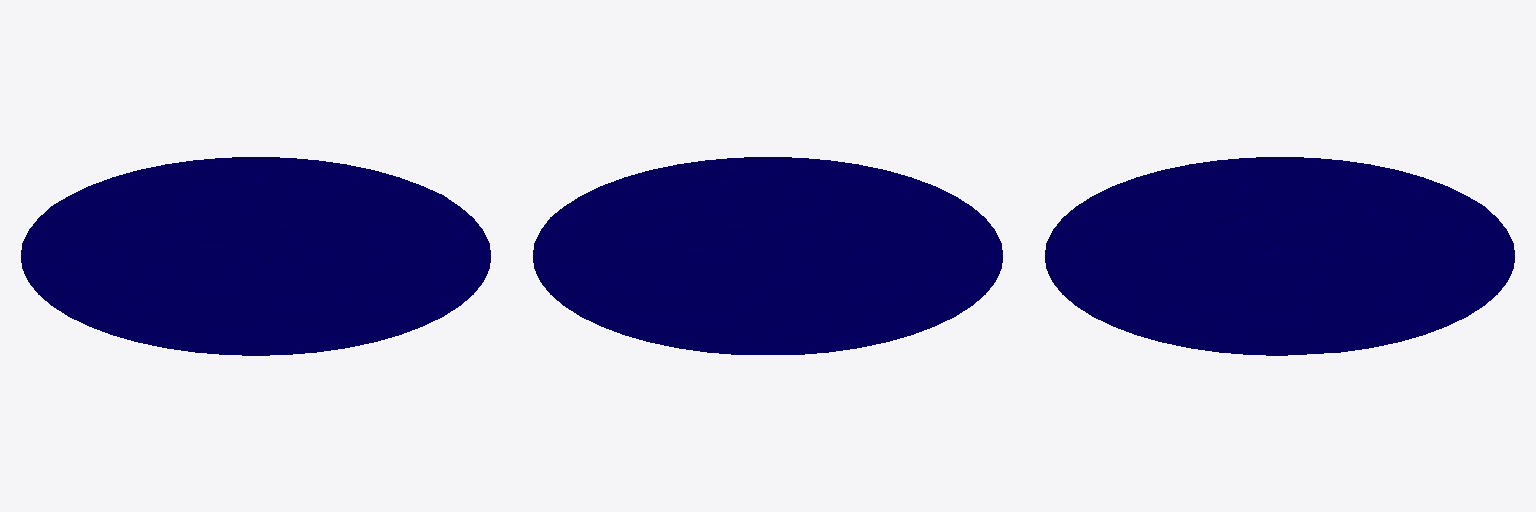
File: ocean_final_real.obj
3 renders of one model, left to right at view 1: azimuth 30°, elevation 25°; view 2: azimuth 150°, elevation 25°; view 3: azimuth 270°, elevation 25°, orthographic.
Parts seen in each view (by area): view 1: ocean; view 2: ocean; view 3: ocean.
Part boxes in pixels (x1,y1,x2,y2): ocean: (21, 157, 490, 355); ocean: (533, 157, 1002, 354); ocean: (1045, 157, 1514, 355).
Size of the model in its own units: 6000 by 10.53 by 6000.